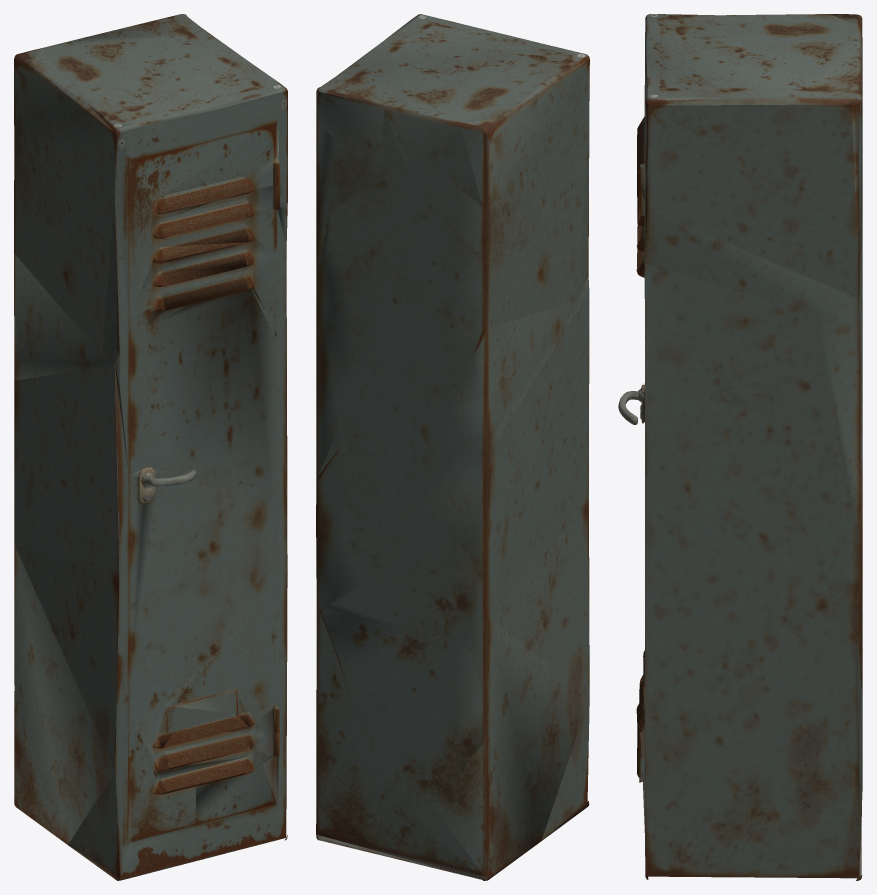
The model's file is PorteCasier.fbx.
3 renders of one model, left to right at view 1: azimuth 30°, elevation 25°; view 2: azimuth 150°, elevation 25°; view 3: azimuth 270°, elevation 25°, orthographic. The views are drawn at different scales.
Visible parts, largest first — view 1: Mesh_0; view 2: Mesh_0; view 3: Mesh_0.
Boxes of the visible parts, bbox=[...] form: Mesh_0: bbox=[14, 14, 287, 880]; Mesh_0: bbox=[316, 14, 589, 880]; Mesh_0: bbox=[618, 14, 862, 880].
Bounding box in the file's own units: 45.69 × 190 × 53.79.
1 material, 1 textured.
